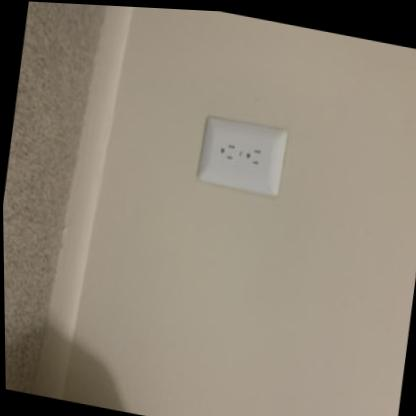OUTLET: (196, 113, 289, 197)
